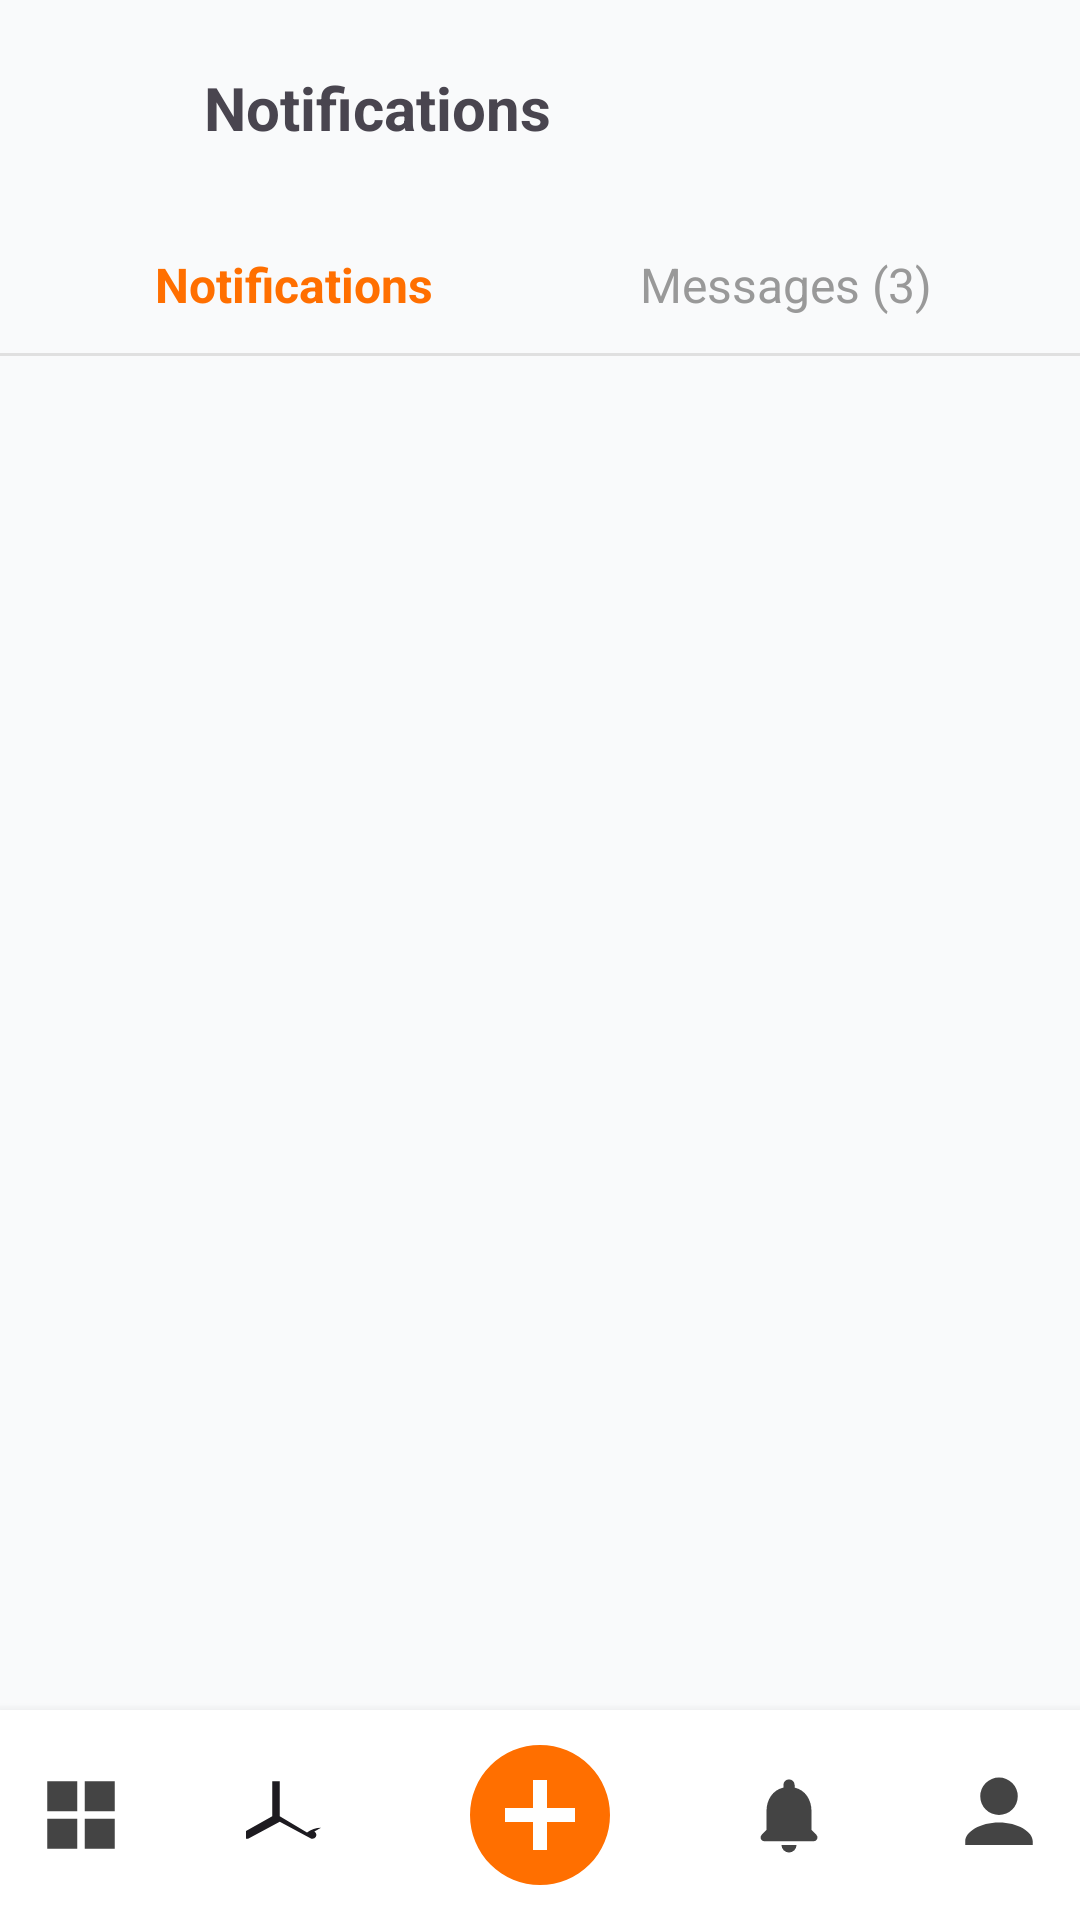

Where icons sit on this 1080×1920 app screen, as [x1,y1,x2,y2]:
add circle: [470,1745,610,1885]
bell: [760,1779,818,1853]
grid: [47,1781,115,1849]
profile: [965,1777,1033,1845]
